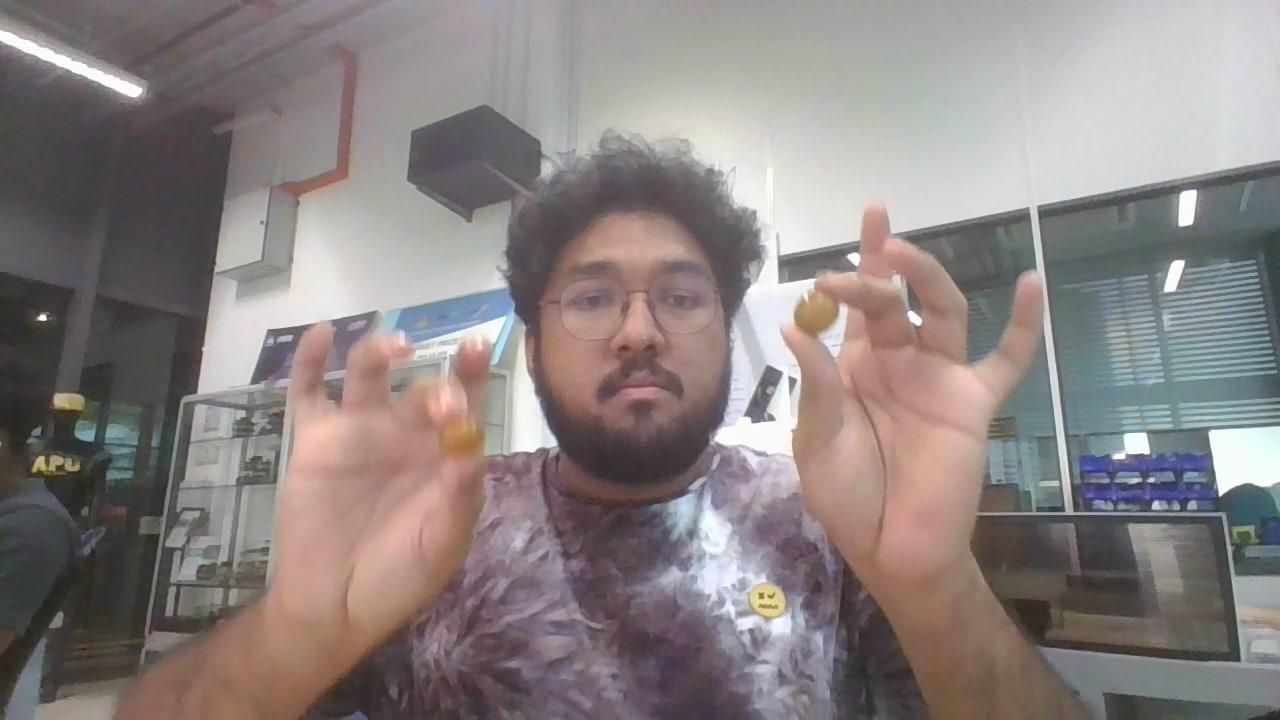yellow_cherry_tomato: (794, 292, 837, 337), (440, 418, 483, 454)
